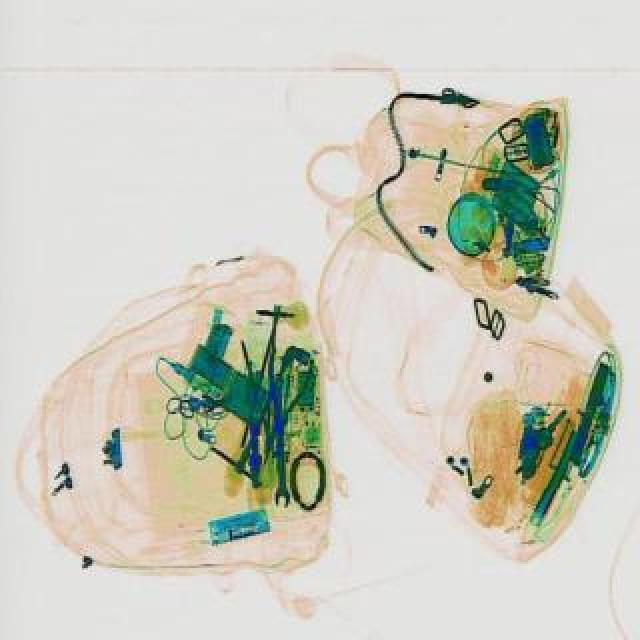scissors: (266, 372, 292, 504)
wrench: (234, 336, 312, 468)
